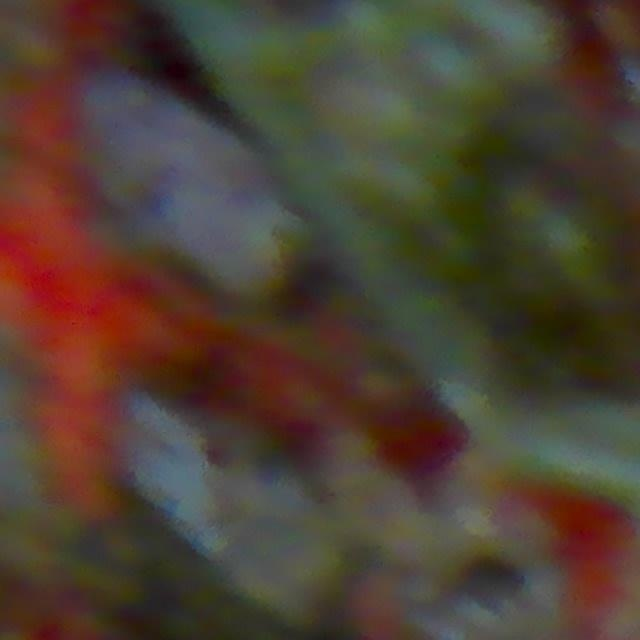SeaGrape: (482, 0, 569, 77), (416, 34, 486, 106)
